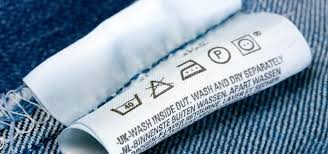ER_dry_clean_chemical: (206, 44, 232, 66)
ER_iron_high_temp: (175, 57, 208, 81)
ER_no_bleach: (145, 77, 177, 99)
ER_tumble_dry_normal_heat: (231, 31, 263, 58)
ER_wash_40: (109, 91, 145, 119)
